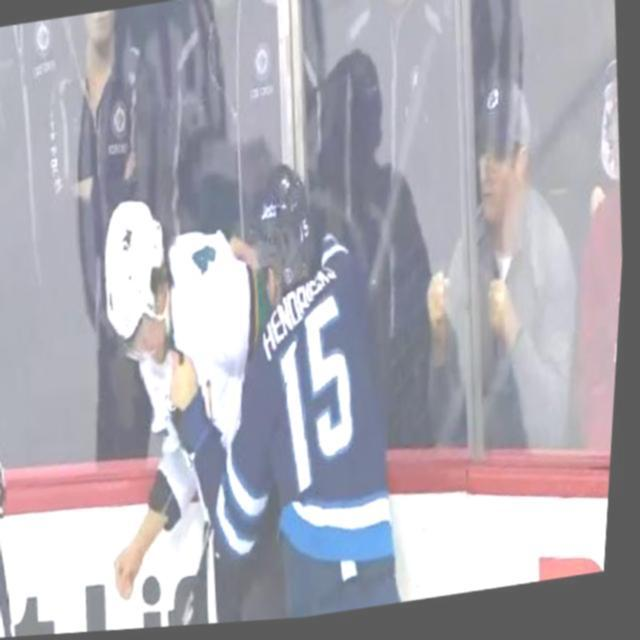fight: (77, 145, 434, 634)
